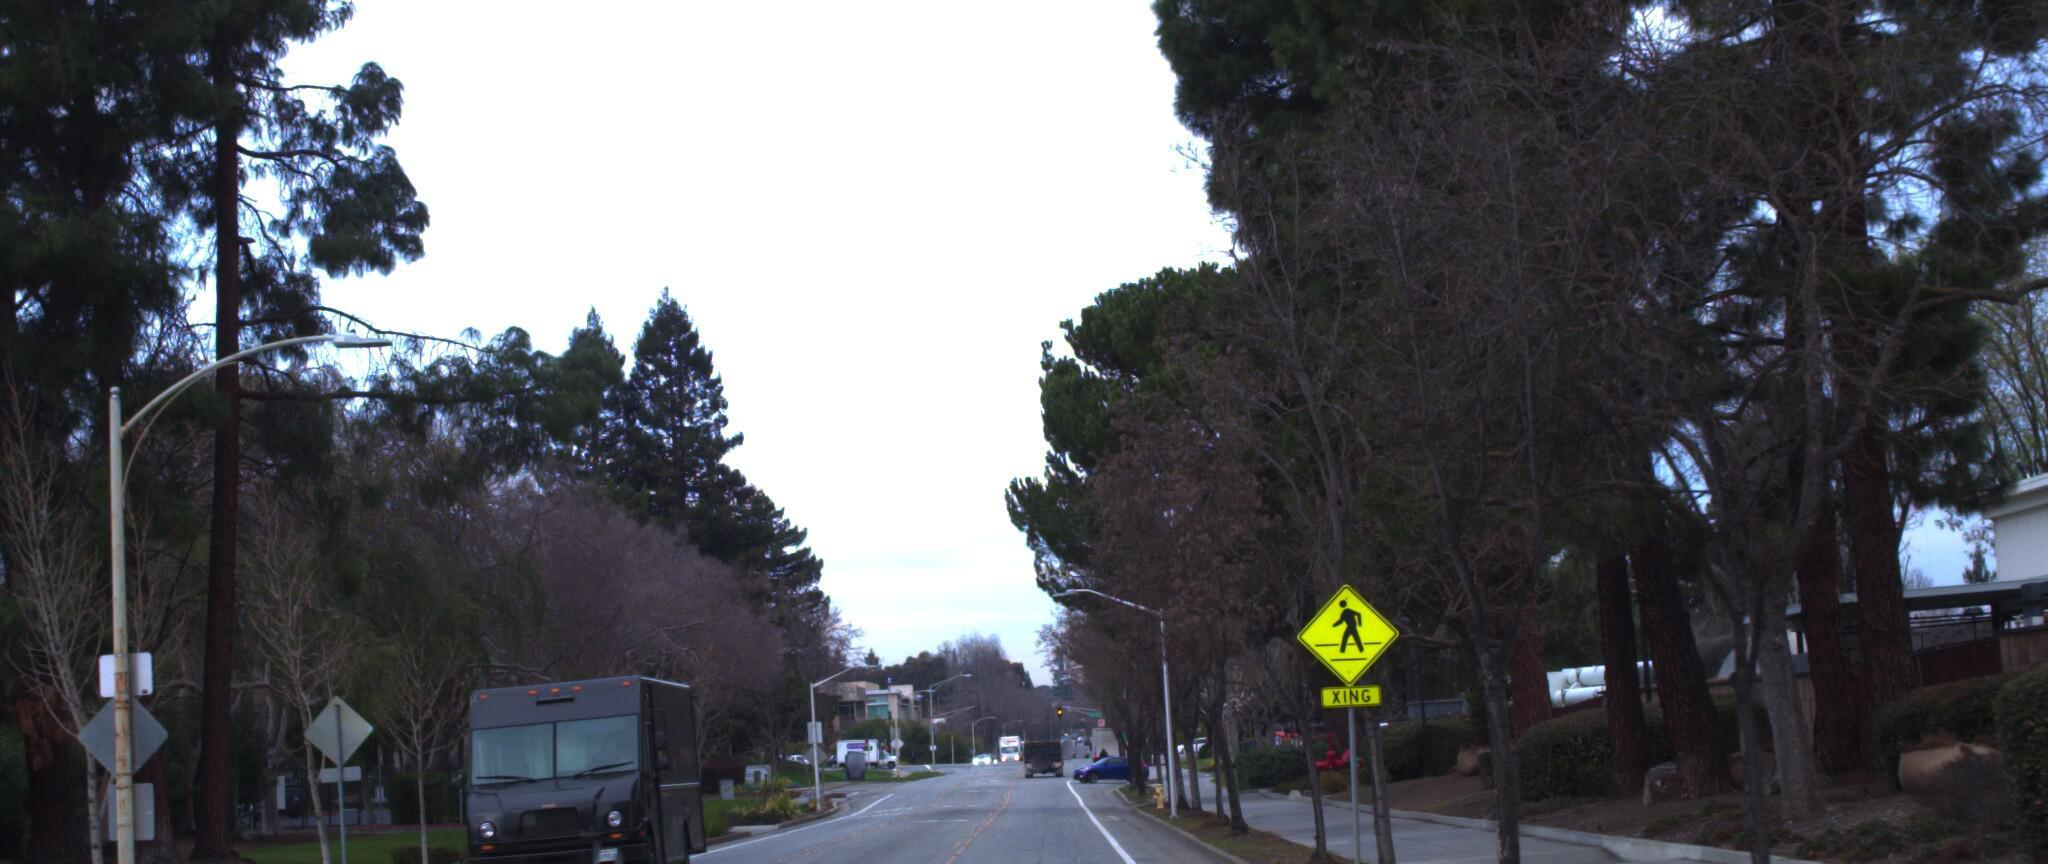other_vehicle: (1512, 636, 1919, 757)
truck: (436, 654, 721, 864)
